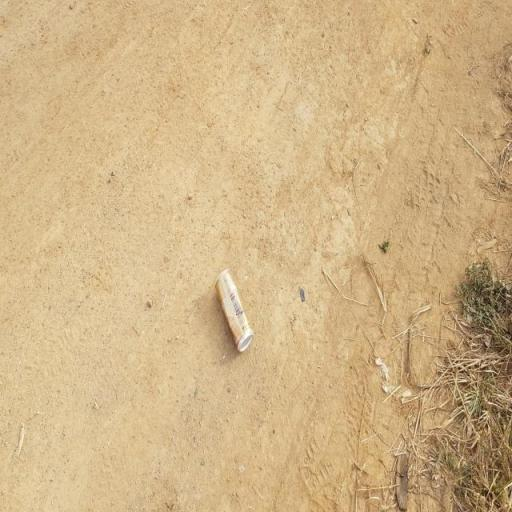metal: (215, 256, 274, 377)
